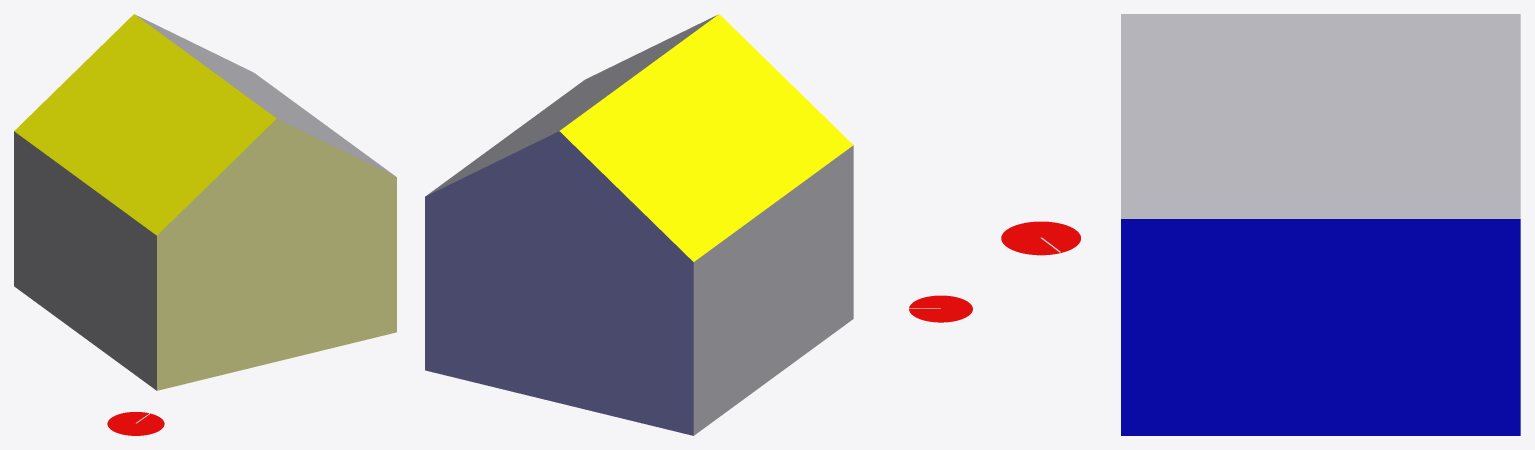
Rendered from result.glb.
3 renders of one model, left to right at view 1: azimuth 30°, elevation 25°; view 2: azimuth 150°, elevation 25°; view 3: azimuth 270°, elevation 25°, orthographic. The views are drawn at different scales.
Visible parts, largest first — view 1: adeb9955-90c8-4b56-9bd0-b3d026e814a9__undefined, 07bc666f-9ab0-46bf-a8d1-e70afae166aa__undefined, 613ddd92-1d36-4b06-bdd4-924d975b9331__undefined, 81ec67d9-2f1e-4a87-8787-d0a6a4fbbabe__undefined, f96c4d52-7fe4-41b1-b0bc-dc05d55696dc__Circle; view 2: acb1da2c-7e46-4580-87b5-086f272cad7d__undefined, 07bc666f-9ab0-46bf-a8d1-e70afae166aa__undefined, 613ddd92-1d36-4b06-bdd4-924d975b9331__undefined, 81ec67d9-2f1e-4a87-8787-d0a6a4fbbabe__undefined, f96c4d52-7fe4-41b1-b0bc-dc05d55696dc__Circle; view 3: b7eef11b-5eb3-42bf-8b6d-2ea6730bccaf__undefined, 81ec67d9-2f1e-4a87-8787-d0a6a4fbbabe__undefined, f96c4d52-7fe4-41b1-b0bc-dc05d55696dc__Circle.
Part boxes in pixels (x1,y1,x2,y2): adeb9955-90c8-4b56-9bd0-b3d026e814a9__undefined: [157, 119, 396, 390]; 07bc666f-9ab0-46bf-a8d1-e70afae166aa__undefined: [14, 14, 276, 235]; 613ddd92-1d36-4b06-bdd4-924d975b9331__undefined: [14, 131, 156, 390]; 81ec67d9-2f1e-4a87-8787-d0a6a4fbbabe__undefined: [136, 15, 395, 176]; f96c4d52-7fe4-41b1-b0bc-dc05d55696dc__Circle: [107, 412, 164, 435]; acb1da2c-7e46-4580-87b5-086f272cad7d__undefined: [425, 131, 693, 435]; 07bc666f-9ab0-46bf-a8d1-e70afae166aa__undefined: [559, 14, 853, 261]; 613ddd92-1d36-4b06-bdd4-924d975b9331__undefined: [693, 145, 853, 435]; 81ec67d9-2f1e-4a87-8787-d0a6a4fbbabe__undefined: [426, 15, 717, 195]; f96c4d52-7fe4-41b1-b0bc-dc05d55696dc__Circle: [909, 295, 972, 322]; b7eef11b-5eb3-42bf-8b6d-2ea6730bccaf__undefined: [1121, 219, 1520, 435]; 81ec67d9-2f1e-4a87-8787-d0a6a4fbbabe__undefined: [1121, 14, 1520, 218]; f96c4d52-7fe4-41b1-b0bc-dc05d55696dc__Circle: [1001, 221, 1080, 255].
Size of the model in its own units: 635 by 469 by 650.
